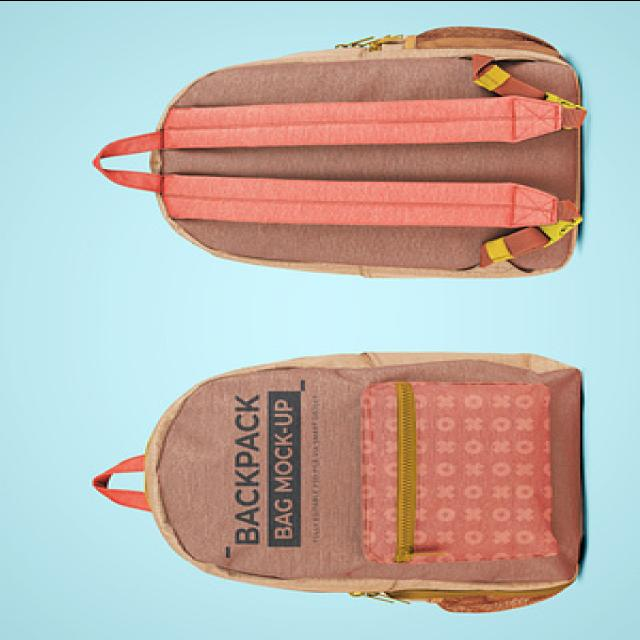backpack: (92, 347, 594, 613), (91, 27, 586, 281)
